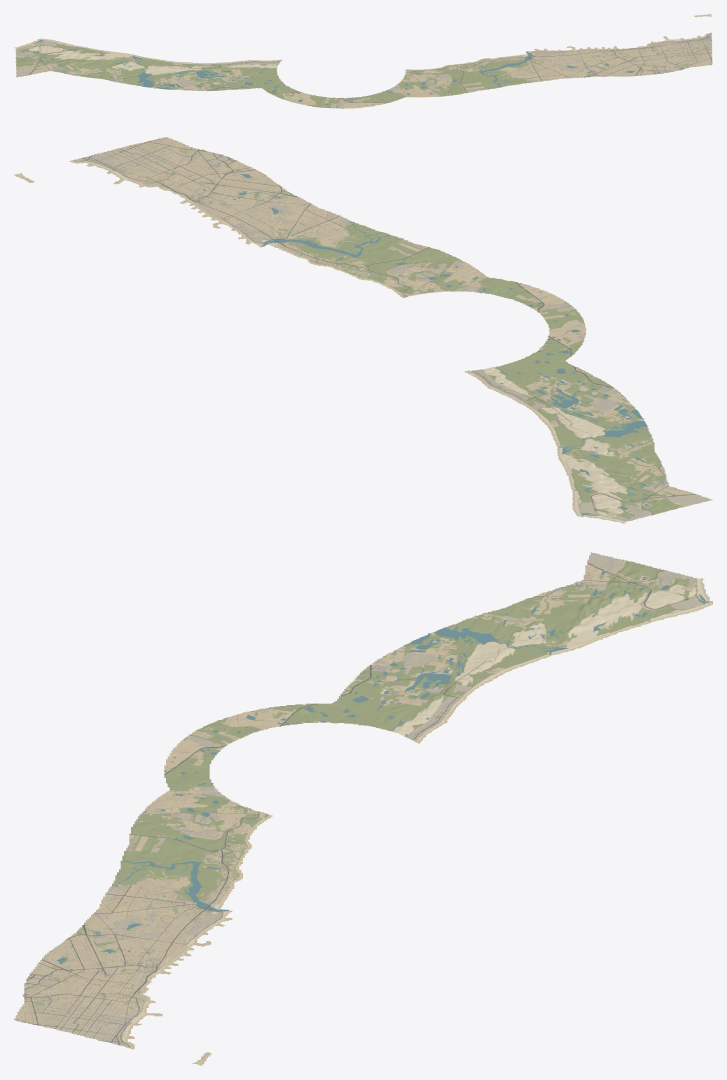
The model's file is orla.glb.
3 views of the same model, one above another, from view 1: azimuth 30°, elevation 25°; view 2: azimuth 150°, elevation 25°; view 3: azimuth 270°, elevation 25° (orthographic). The views are drawn at different scales.
Visible parts, largest first — view 1: Orla_10, Orla_01, Orla_00; view 2: Orla_10, Orla_01, Orla_00; view 3: Orla_10, Orla_01, Orla_00.
Part boxes in pixels (x1,y1,x2,y2): Orla_10: [405, 14, 712, 96]; Orla_01: [14, 38, 282, 91]; Orla_00: [216, 75, 432, 108]; Orla_10: [14, 137, 465, 298]; Orla_01: [464, 361, 712, 523]; Orla_00: [423, 262, 606, 383]; Orla_10: [14, 808, 272, 1065]; Orla_01: [363, 552, 712, 743]; Orla_00: [146, 671, 363, 808].
Bounding box in the file's own units: 41640 × 89.29 × 24000.
3 materials, 3 textured.
